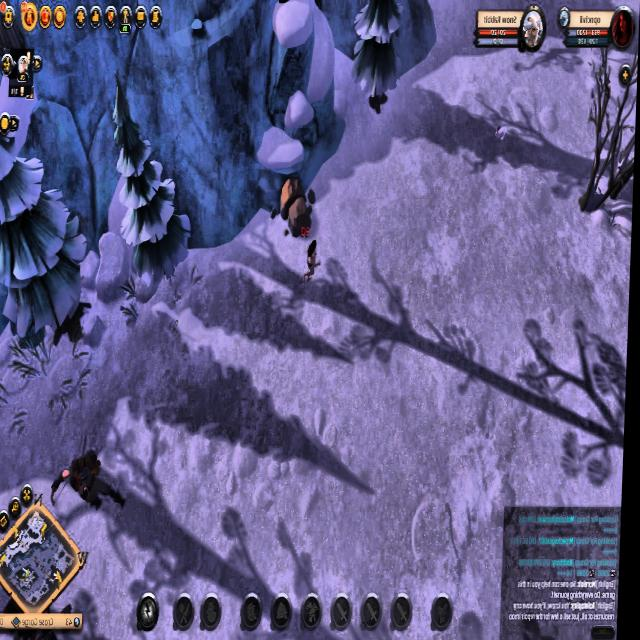limestone: (273, 177, 320, 242)
mob: (54, 440, 132, 516)
